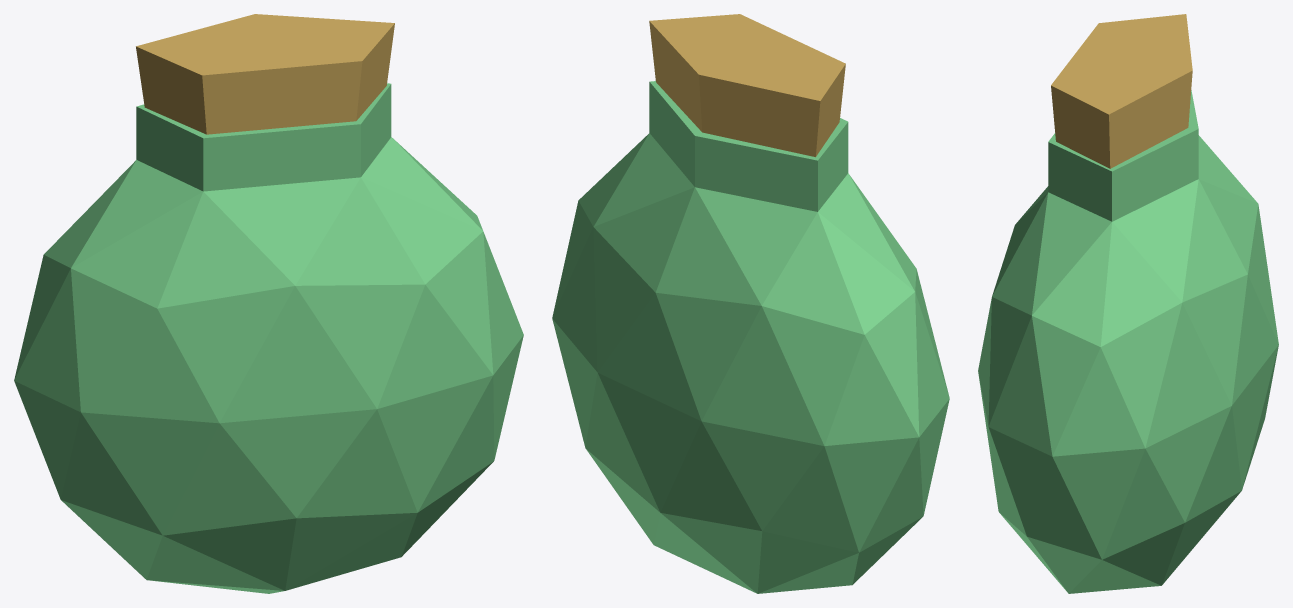
Rendered from potion_shield.fbx.
The picture shows the model from 3 angles, left to right: view 1: azimuth 30°, elevation 25°; view 2: azimuth 150°, elevation 25°; view 3: azimuth 270°, elevation 25°; orthographic projection. The views are drawn at different scales.
Parts seen in each view (by area): view 1: Cylinder.001, Cylinder; view 2: Cylinder.001, Cylinder; view 3: Cylinder.001, Cylinder.
Part boxes in pixels (x1=…): Cylinder.001: x1=14, y1=83, x2=523, y2=593; Cylinder: x1=136, y1=14, x2=394, y2=134; Cylinder.001: x1=552, y1=81, x2=949, y2=593; Cylinder: x1=649, y1=14, x2=845, y2=157; Cylinder.001: x1=978, y1=90, x2=1278, y2=593; Cylinder: x1=1051, y1=14, x2=1192, y2=168.
Bounding box in the file's own units: 190 × 233 × 122.
